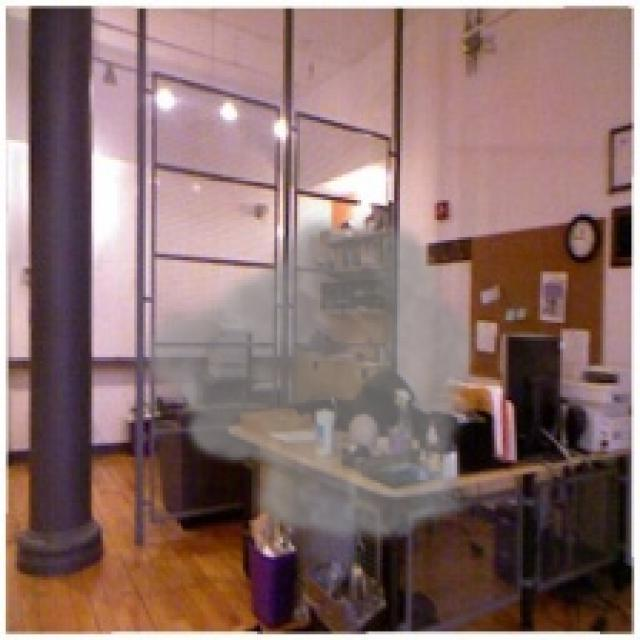smoke: (134, 206, 480, 548)
